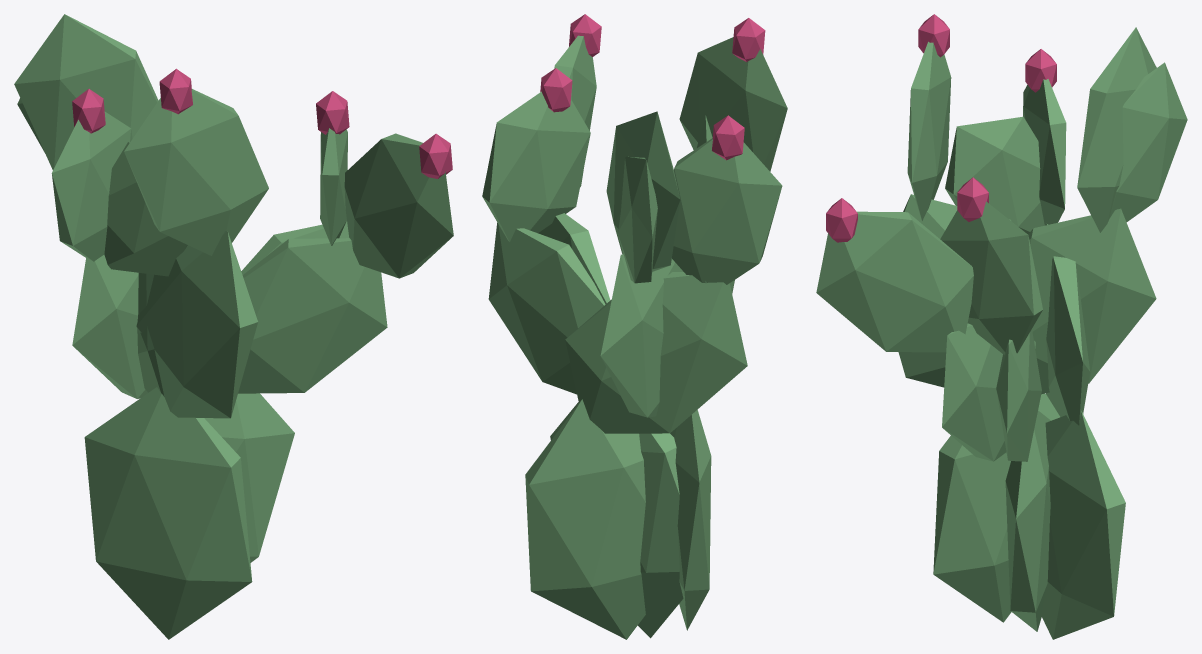
The model's file is prickly_pear.glb.
The picture shows the model from 3 angles, left to right: view 1: azimuth 30°, elevation 25°; view 2: azimuth 150°, elevation 25°; view 3: azimuth 270°, elevation 25°; orthographic projection.
Visible parts, largest first — view 1: SG_Prickly_Pear; view 2: SG_Prickly_Pear; view 3: SG_Prickly_Pear.
Part boxes in pixels (x1=…): SG_Prickly_Pear: x1=14, y1=14, x2=453, y2=639; SG_Prickly_Pear: x1=482, y1=14, x2=787, y2=639; SG_Prickly_Pear: x1=816, y1=14, x2=1187, y2=639.
Size of the model in its own units: 1.31 by 2.46 by 1.39.
